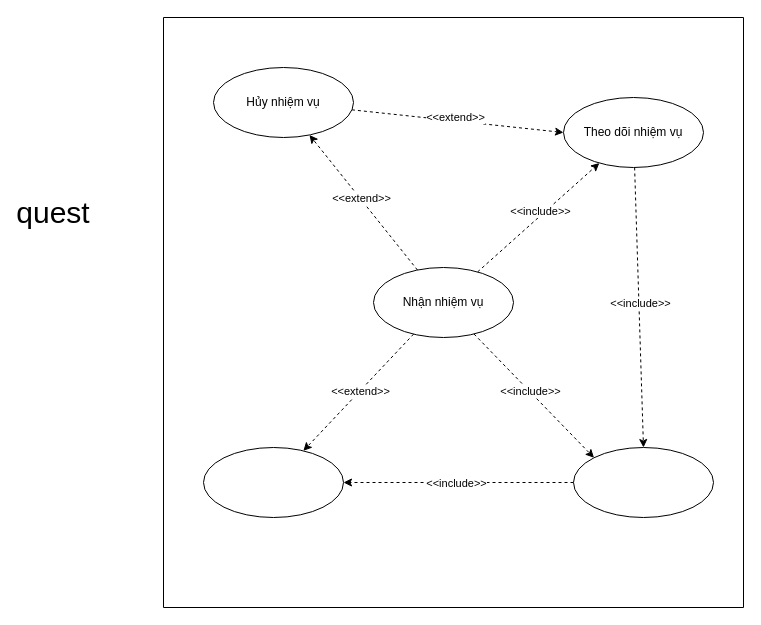
Image size: 761x625. Some labels were removed from this diagram. Each missing label, with the centre of its shape:
"Hoàn thành nhiệm vụ" goes at point 643,482.
"Nhận thưởng" goes at point 273,482.
